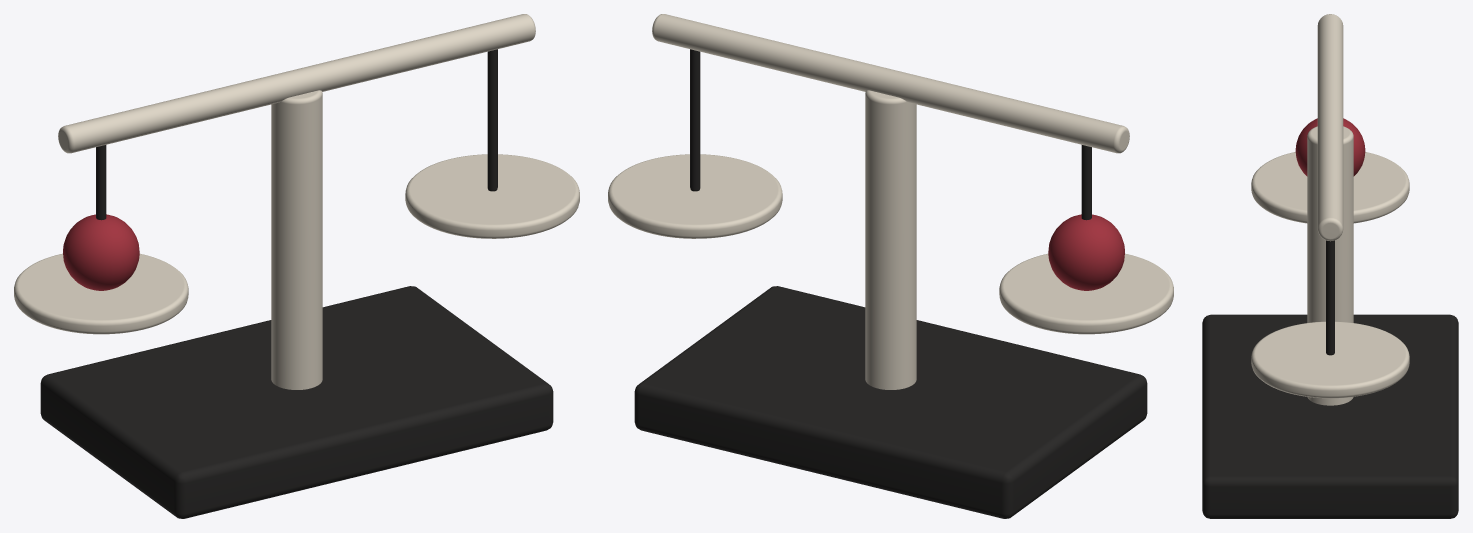
The model's file is VSV-005.glb.
3 views of the same model, side by side, from view 1: azimuth 30°, elevation 25°; view 2: azimuth 150°, elevation 25°; view 3: azimuth 270°, elevation 25° (orthographic). The views are drawn at different scales.
Visible parts, largest first — view 1: VSV-005_balance__plinth, VSV-005_balance__column, VSV-005_balance__beam, VSV-005_balance__pan.001, VSV-005_balance__pan, VSV-005_balance__weight, VSV-005_balance__hanger.001, VSV-005_balance__hanger; view 2: VSV-005_balance__plinth, VSV-005_balance__column, VSV-005_balance__beam, VSV-005_balance__pan.001, VSV-005_balance__pan, VSV-005_balance__weight, VSV-005_balance__hanger.001, VSV-005_balance__hanger; view 3: VSV-005_balance__plinth, VSV-005_balance__pan.001, VSV-005_balance__pan, VSV-005_balance__beam, VSV-005_balance__column, VSV-005_balance__weight, VSV-005_balance__hanger.001.
Part boxes in pixels (x1,y1,x2,y2): VSV-005_balance__plinth: [40, 286, 553, 518]; VSV-005_balance__column: [271, 90, 322, 389]; VSV-005_balance__beam: [58, 14, 535, 153]; VSV-005_balance__pan.001: [405, 154, 579, 238]; VSV-005_balance__pan: [14, 253, 188, 334]; VSV-005_balance__weight: [63, 214, 139, 290]; VSV-005_balance__hanger.001: [487, 49, 497, 191]; VSV-005_balance__hanger: [96, 145, 106, 220]; VSV-005_balance__plinth: [634, 286, 1147, 518]; VSV-005_balance__column: [865, 90, 916, 389]; VSV-005_balance__beam: [652, 14, 1129, 153]; VSV-005_balance__pan.001: [608, 154, 782, 238]; VSV-005_balance__pan: [999, 253, 1173, 334]; VSV-005_balance__weight: [1048, 214, 1124, 290]; VSV-005_balance__hanger.001: [690, 49, 700, 191]; VSV-005_balance__hanger: [1081, 145, 1091, 220]; VSV-005_balance__plinth: [1202, 314, 1458, 518]; VSV-005_balance__pan.001: [1251, 321, 1409, 398]; VSV-005_balance__pan: [1251, 152, 1409, 223]; VSV-005_balance__beam: [1317, 14, 1343, 241]; VSV-005_balance__column: [1307, 126, 1353, 405]; VSV-005_balance__weight: [1295, 118, 1365, 176]; VSV-005_balance__hanger.001: [1326, 240, 1334, 355].
Bounding box in the file's own units: 2.44 × 1.53 × 1.1.
